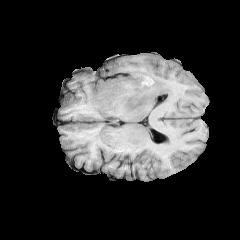glioma: (89, 74, 181, 111)
